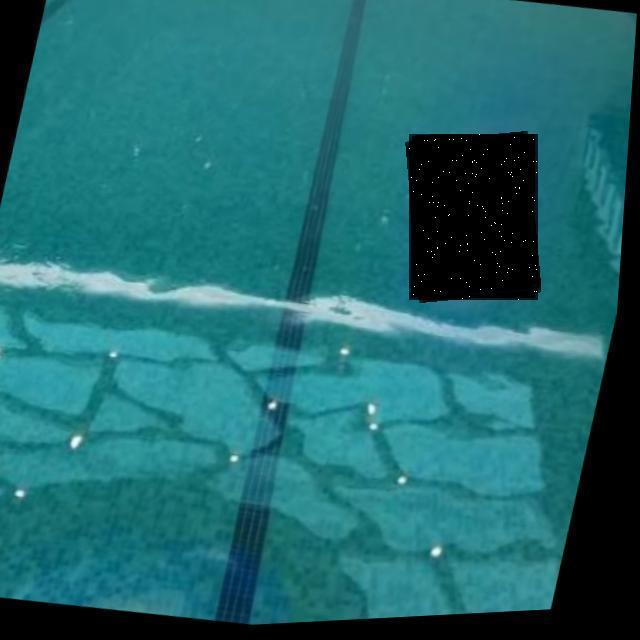swimming: (409, 134, 538, 300)
